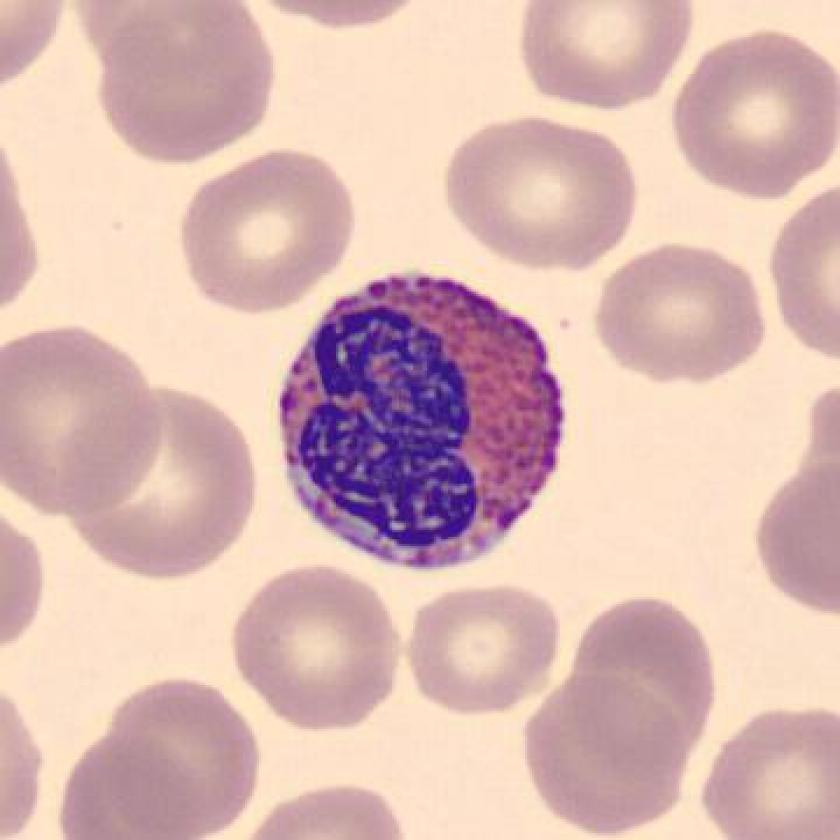eosinophil: (262, 256, 575, 587)
